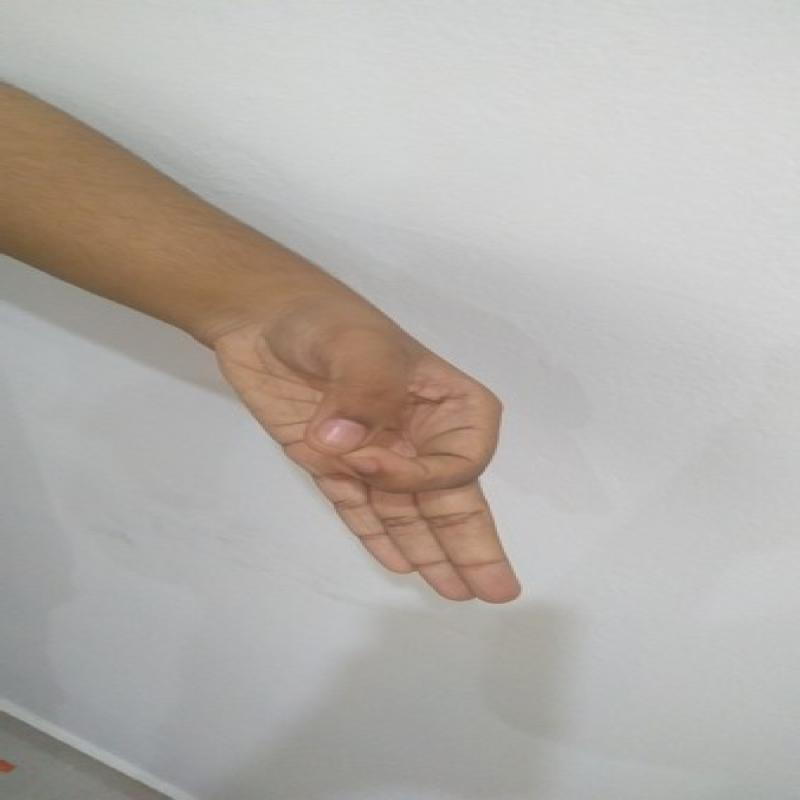Mudraakhyam: (211, 300, 533, 629)
